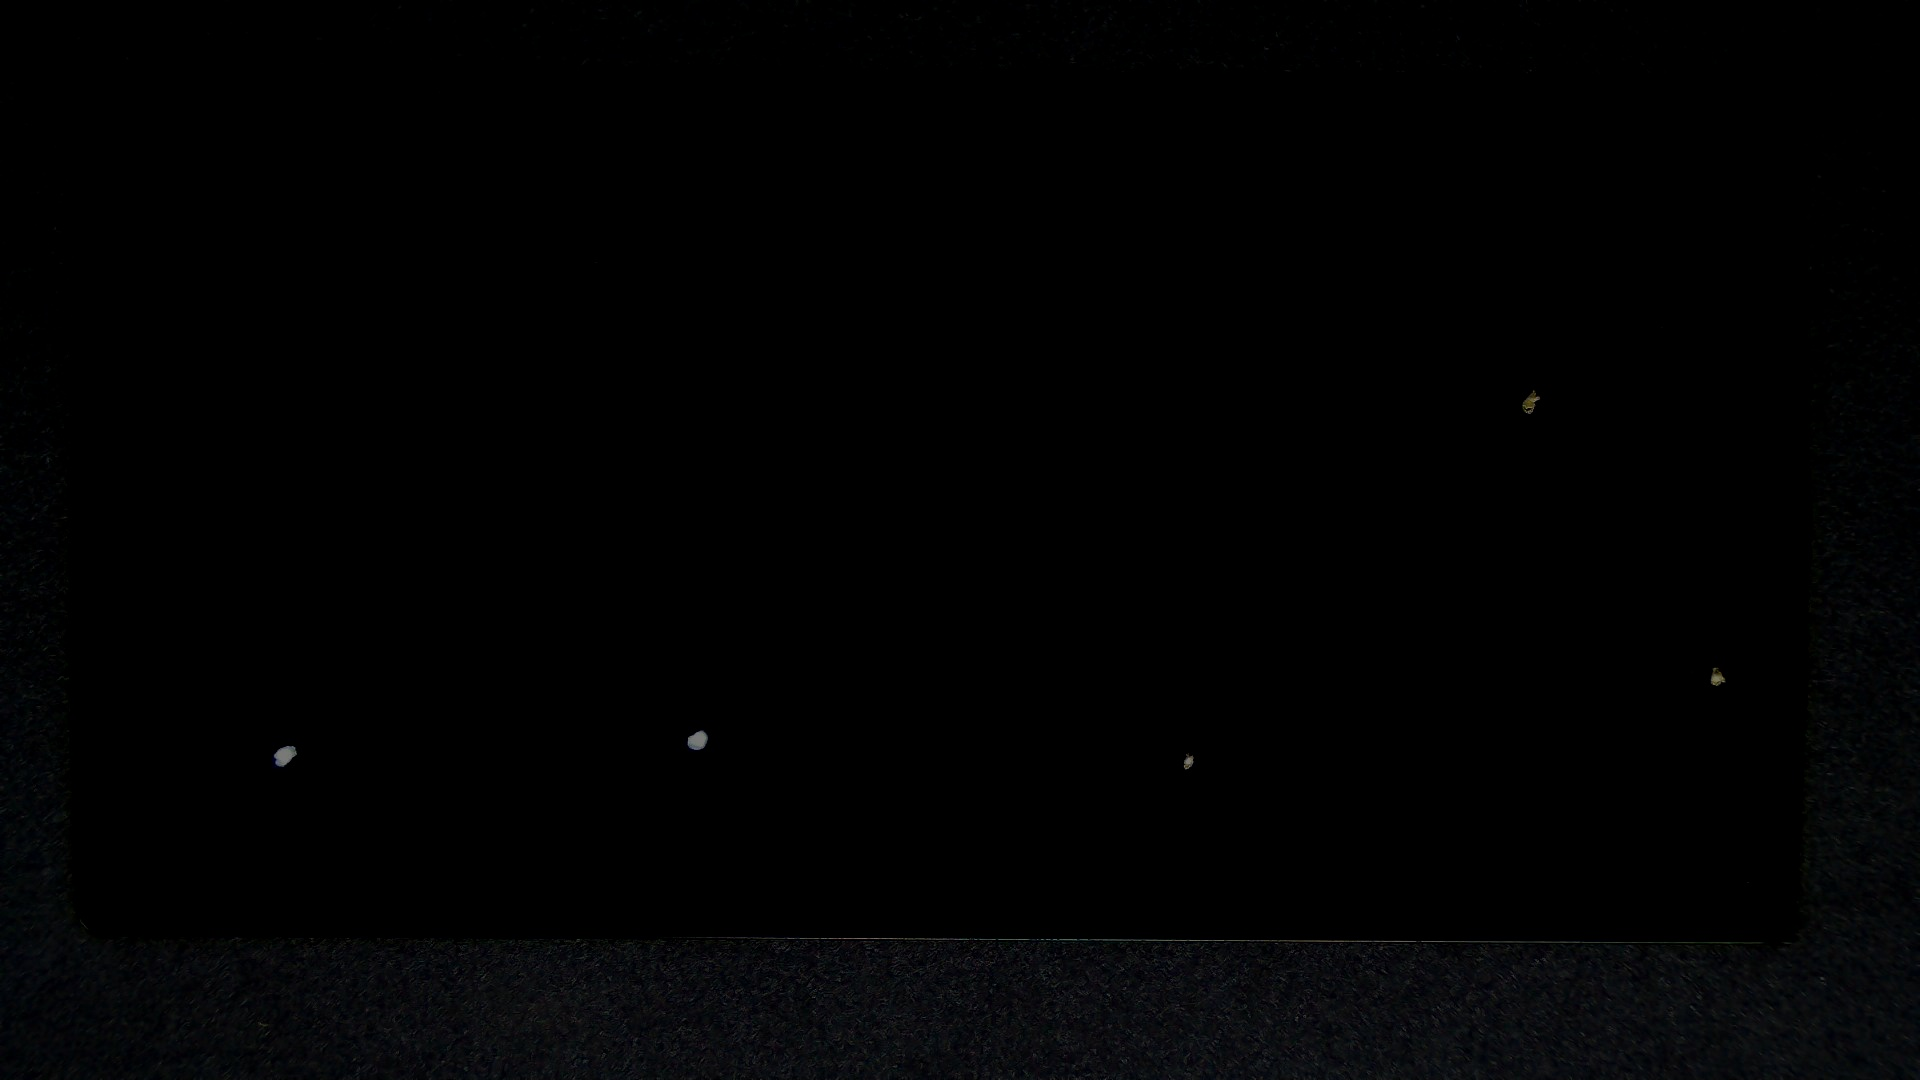oil: (592, 375, 1778, 1080), (858, 332, 1920, 998), (352, 364, 1052, 1080), (766, 194, 1920, 583), (144, 372, 429, 1080)
